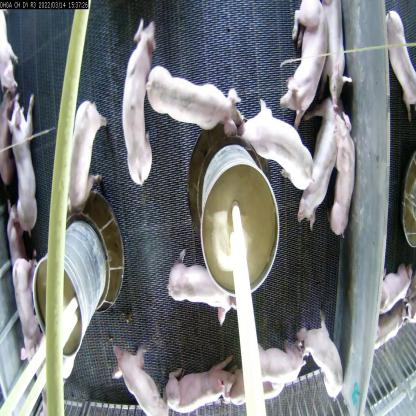Pig: (141, 56, 239, 136), (118, 16, 156, 188), (290, 97, 337, 233), (243, 101, 313, 192), (288, 300, 346, 404), (280, 0, 326, 131), (64, 85, 106, 228), (3, 90, 44, 236), (168, 248, 238, 332), (2, 235, 43, 370), (233, 339, 306, 410), (157, 359, 240, 415), (109, 340, 169, 416), (322, 112, 355, 239), (315, 2, 347, 107)
